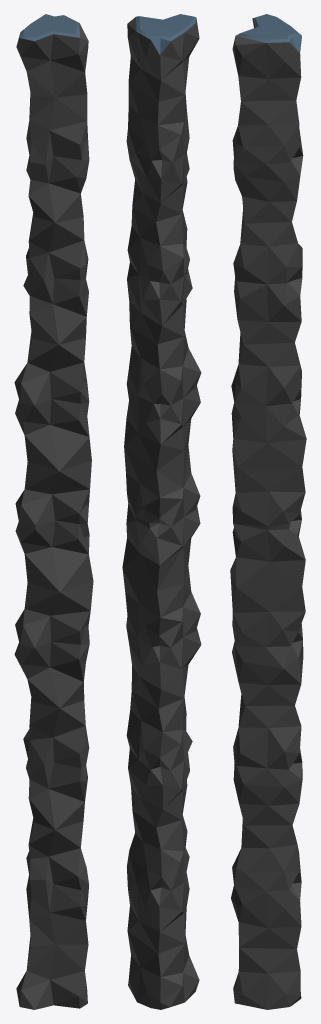
The model's file is BridgeIslandB.fbx.
3 renders of one model, left to right at view 1: azimuth 30°, elevation 25°; view 2: azimuth 210°, elevation 25°; view 3: azimuth 270°, elevation 25°, orthographic.
Visible parts, largest first — view 1: IslandBase; view 2: IslandBase; view 3: IslandBase.
Boxes of the visible parts, x1,y1,x2,y2 form: IslandBase: [14, 14, 93, 1009]; IslandBase: [122, 14, 201, 1009]; IslandBase: [230, 14, 306, 1009].
Size of the model in its own units: 1260 by 18489 by 1318.
